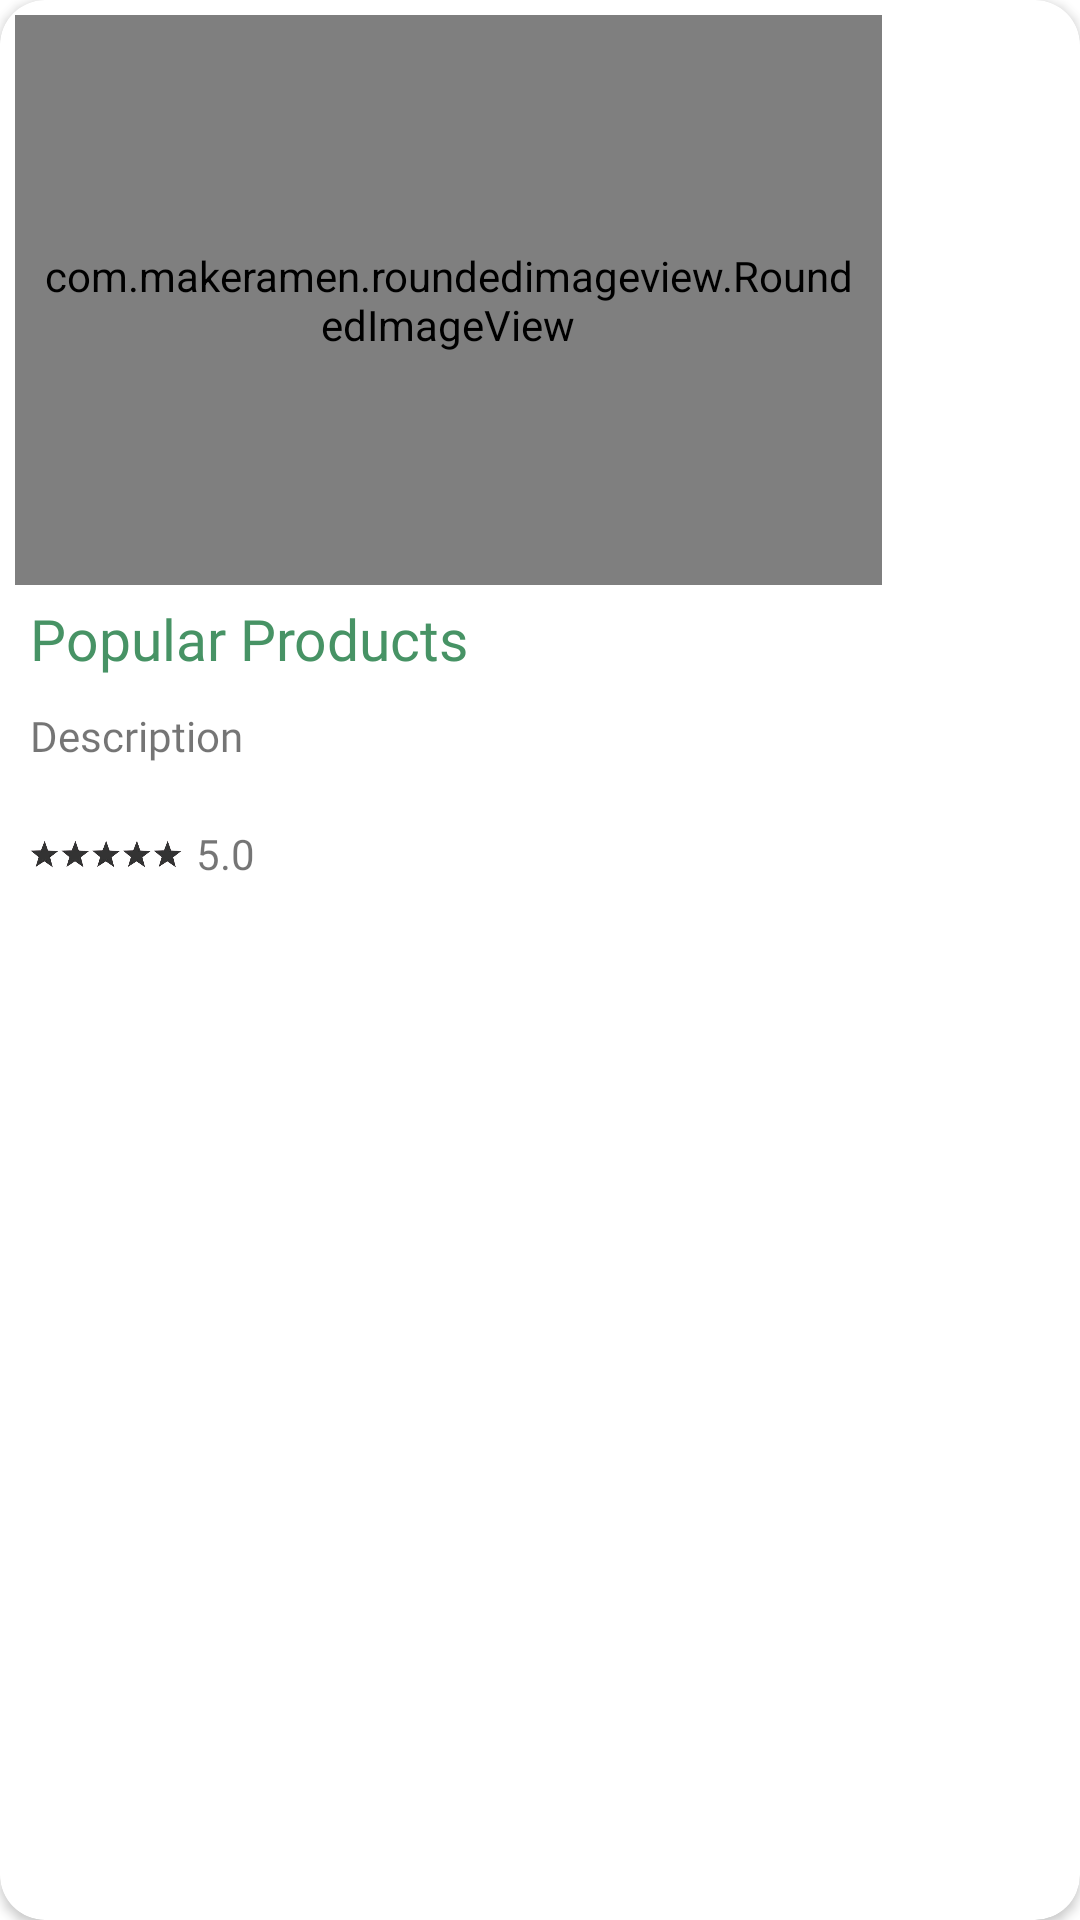

Icon bounding boxes for this 1080 x 1920 phone screenshot, format (x1, y1, x2, y2):
ratingbar: (31, 841, 181, 867)
